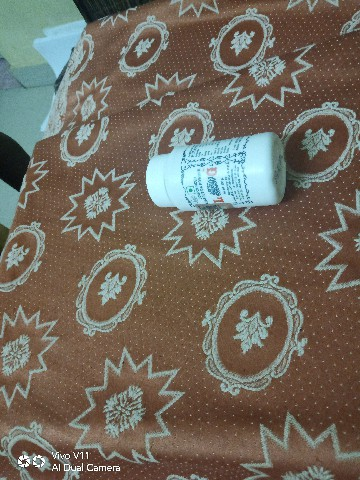lgasafoetidapowder large: (125, 132, 299, 209)
